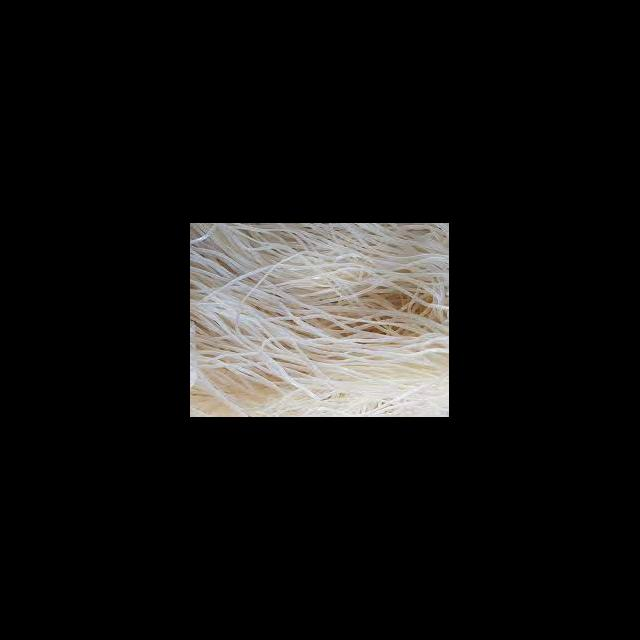noodles: (202, 237, 422, 403)
